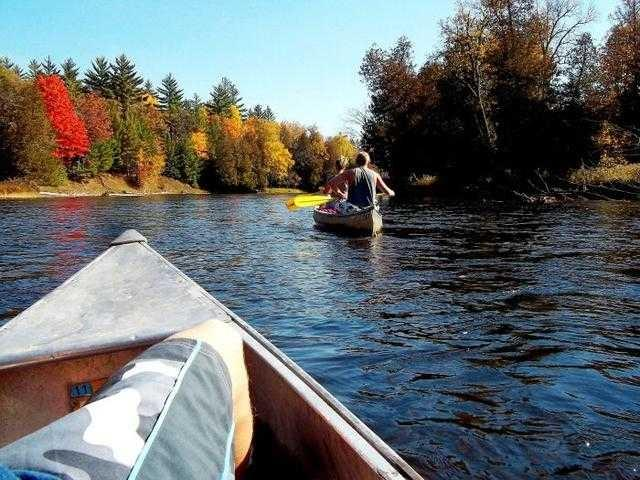kayak: (2, 229, 421, 478), (311, 201, 383, 236), (292, 194, 332, 208)
